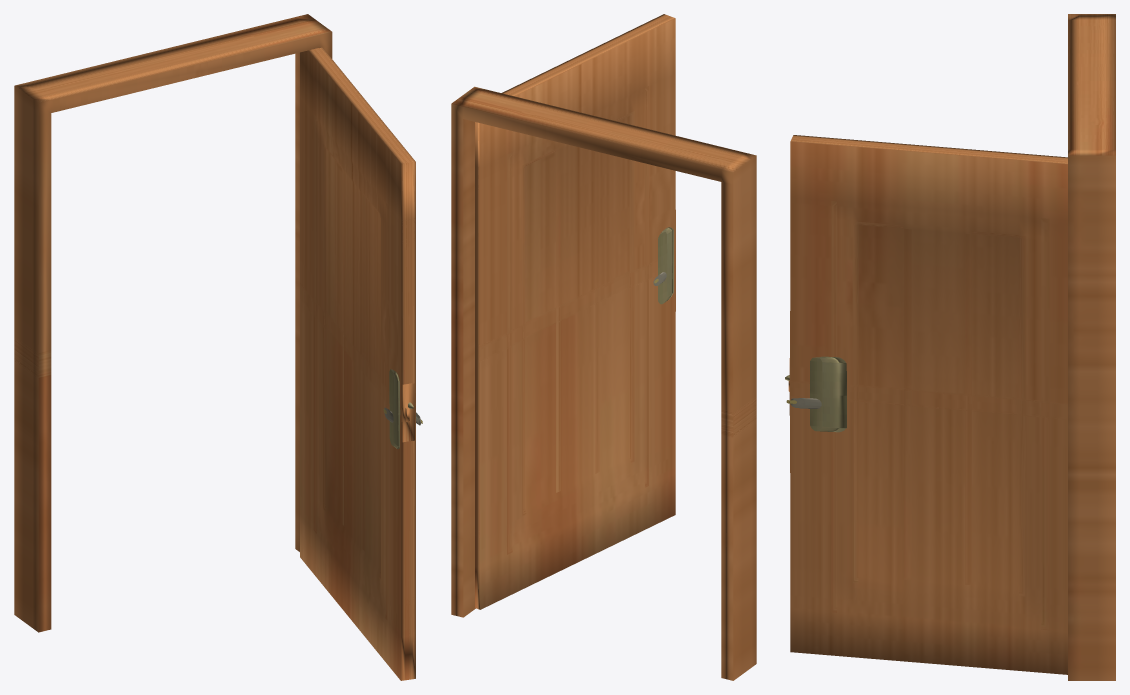
Rendered from door.gltf.
The picture shows the model from 3 angles, left to right: view 1: azimuth 30°, elevation 25°; view 2: azimuth 150°, elevation 25°; view 3: azimuth 270°, elevation 25°; orthographic projection. The views are drawn at different scales.
Parts seen in each view (by area): view 1: DoorBoddy, OutBoddy, Locker.001; view 2: DoorBoddy, OutBoddy, Locker.001; view 3: DoorBoddy, OutBoddy, Locker.
Part boxes in pixels (x1,y1,x2,y2): DoorBoddy: [300, 47, 415, 680]; OutBoddy: [14, 14, 332, 632]; Locker.001: [383, 369, 413, 449]; DoorBoddy: [475, 14, 675, 609]; OutBoddy: [451, 86, 756, 680]; Locker.001: [653, 227, 673, 304]; DoorBoddy: [788, 135, 1067, 674]; OutBoddy: [1068, 14, 1115, 680]; Locker: [786, 356, 846, 432].
Bounding box in the file's own units: 7.18 × 12.42 × 7.09.
5 materials, 5 textured.
